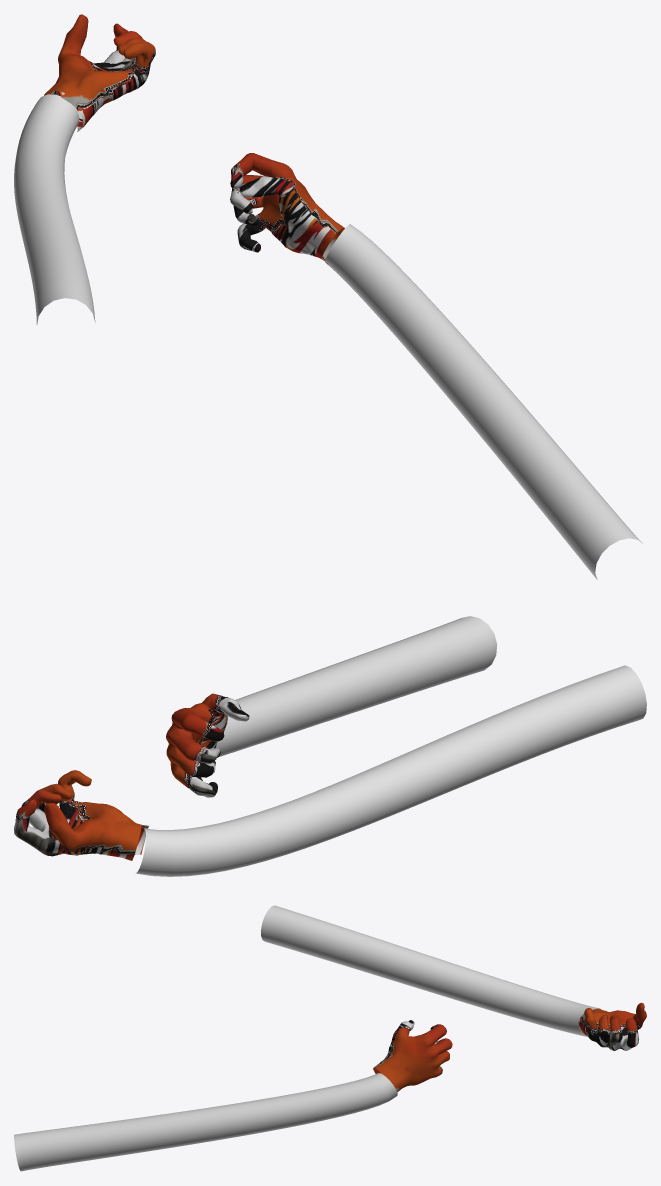
Rendered from fpa_spas.glb.
3 views of the same model, one above another, from view 1: azimuth 30°, elevation 25°; view 2: azimuth 150°, elevation 25°; view 3: azimuth 270°, elevation 25° (orthographic). The views are drawn at different scales.
Visible parts, largest first — view 1: arms, hands; view 2: arms, hands; view 3: arms, hands.
Boxes of the visible parts, <box> form: arms: <box>14,94,642,579</box>; hands: <box>44,14,344,264</box>; arms: <box>135,616,646,876</box>; hands: <box>14,693,249,860</box>; arms: <box>14,905,600,1171</box>; hands: <box>373,1002,646,1092</box>.
Bounding box in the file's own units: 0.8227 × 0.4395 × 1.68.
1 material, 1 textured.
